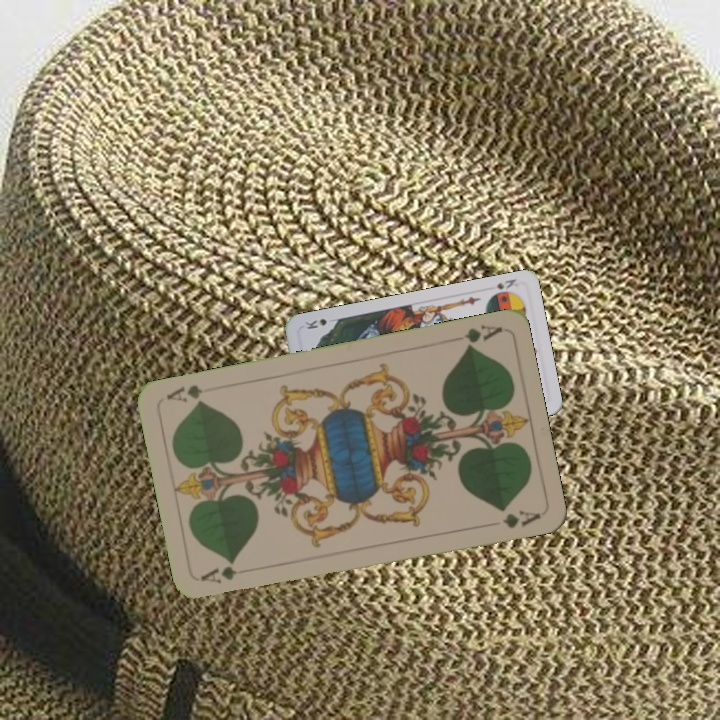GA: (459, 320, 504, 352), (197, 562, 240, 587)
SK: (487, 274, 520, 299)
